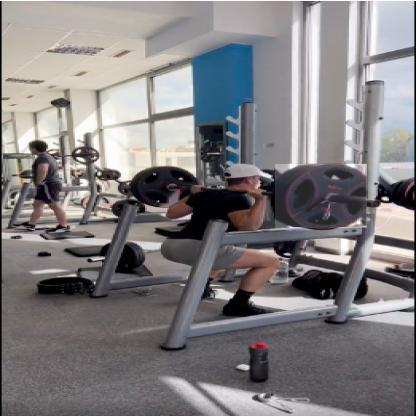barbell: (276, 165, 369, 230)
